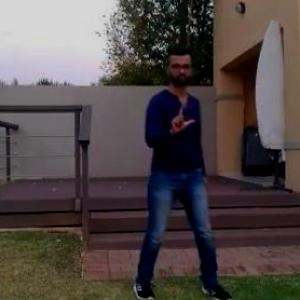land_hand: (165, 99, 199, 139)
